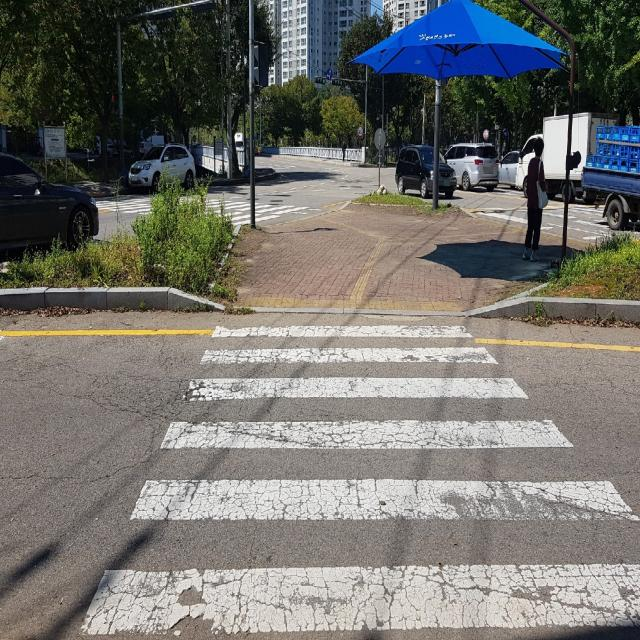횡단보도: (78, 319, 640, 640), (96, 177, 290, 235)
